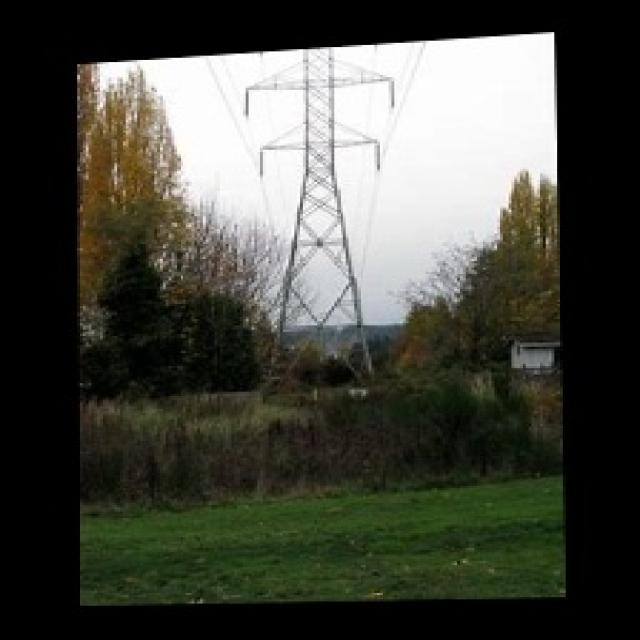utility poles: (196, 242, 311, 396), (330, 294, 461, 396)
